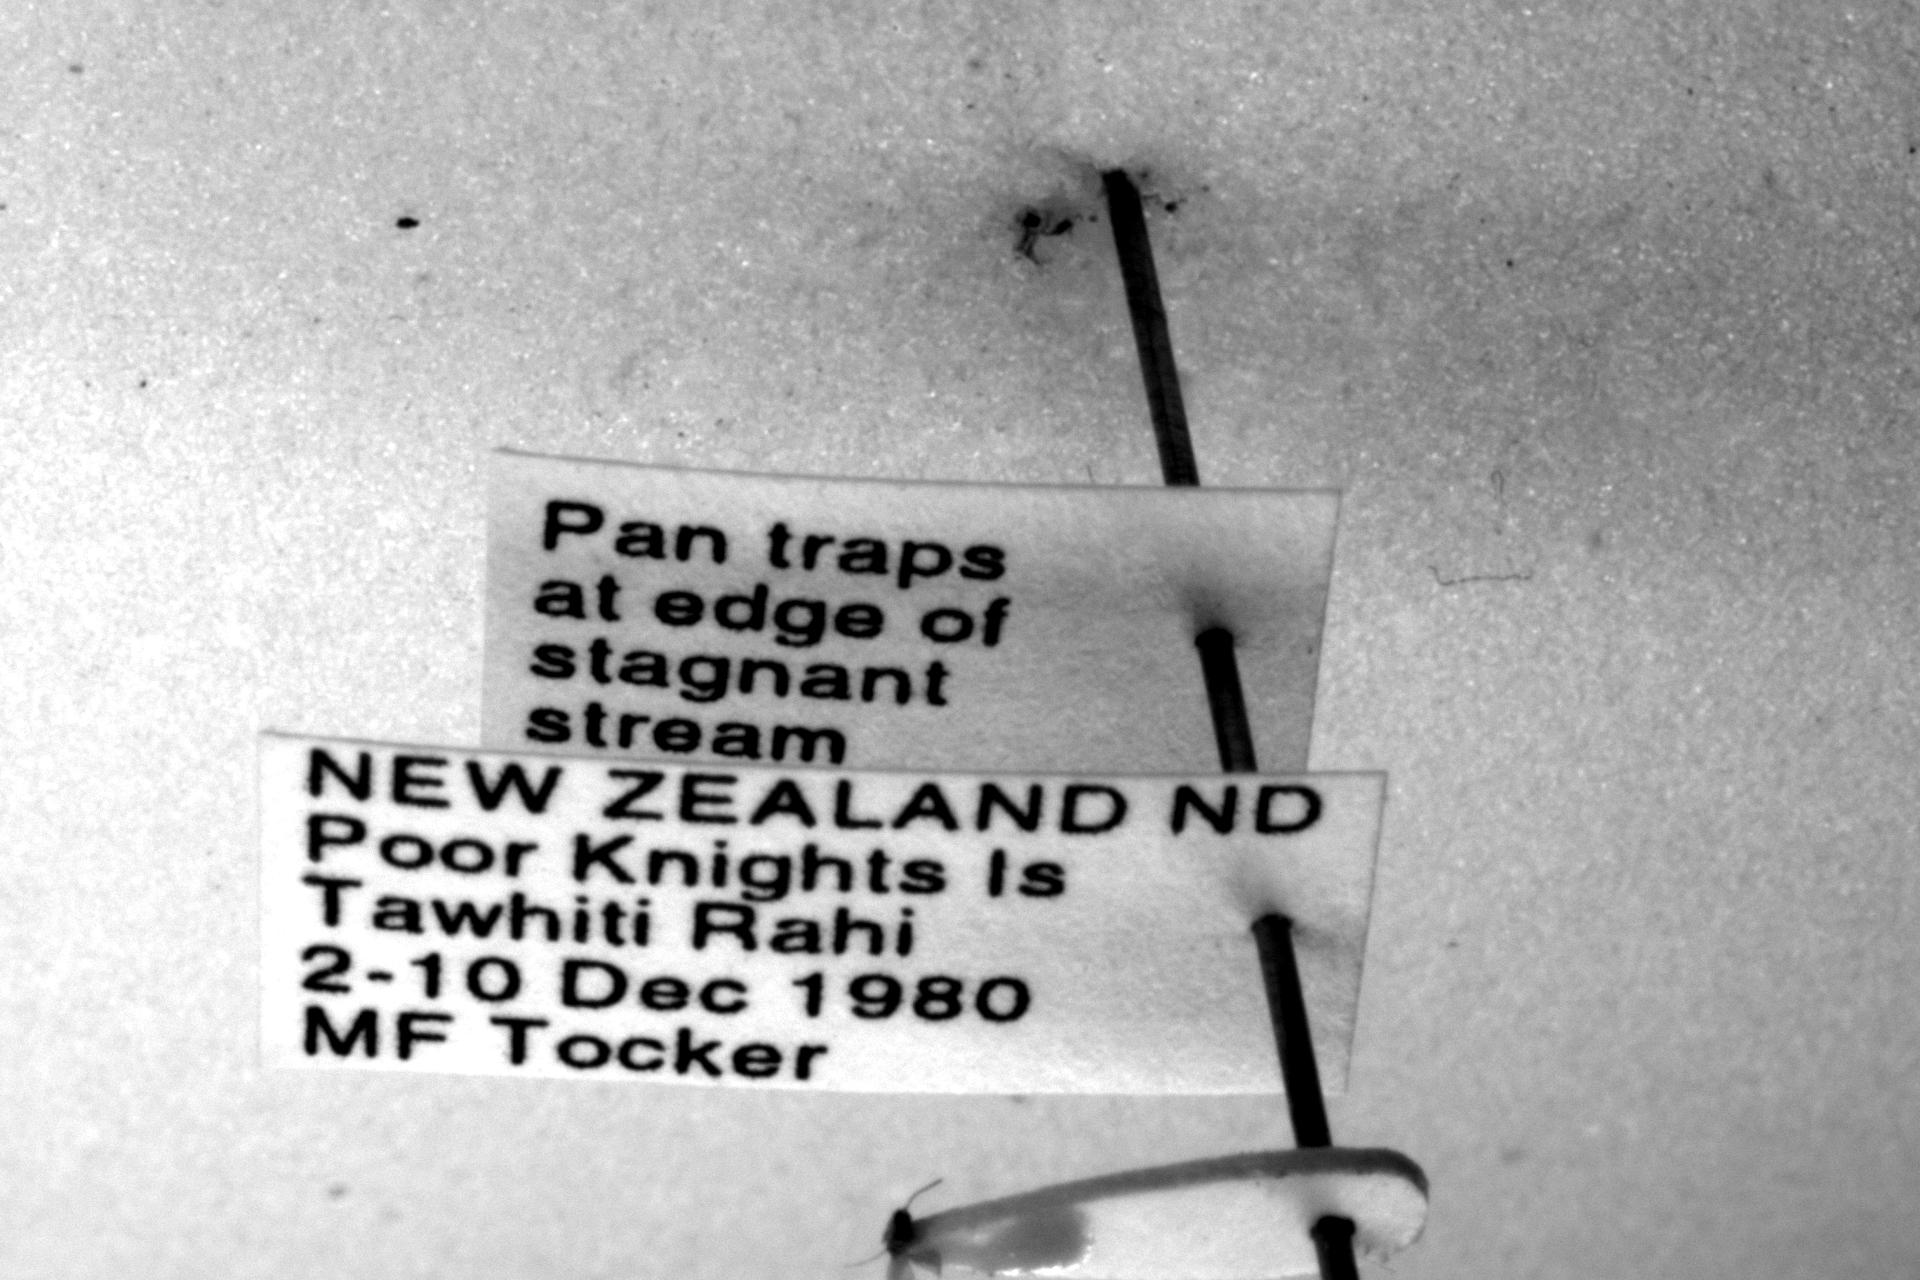typed_label: (259, 735, 1384, 1095), (484, 450, 1339, 772)
